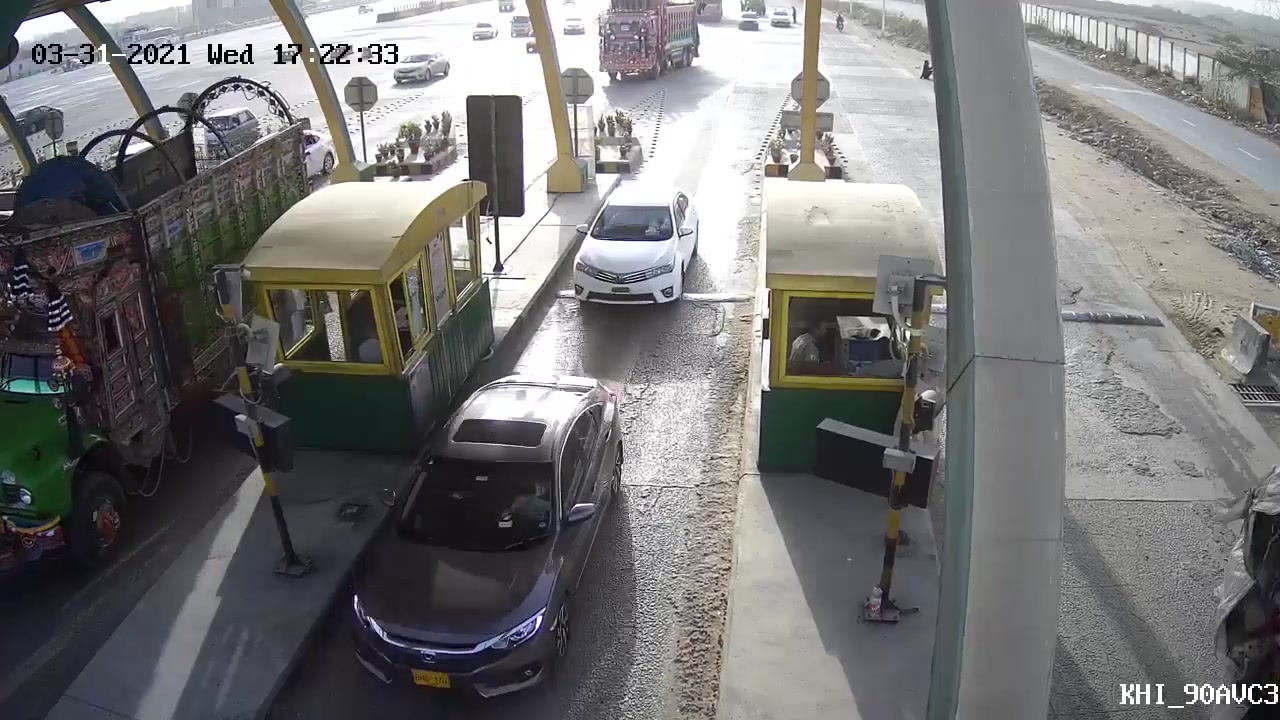F1: (329, 372, 642, 700), (569, 183, 706, 312)
